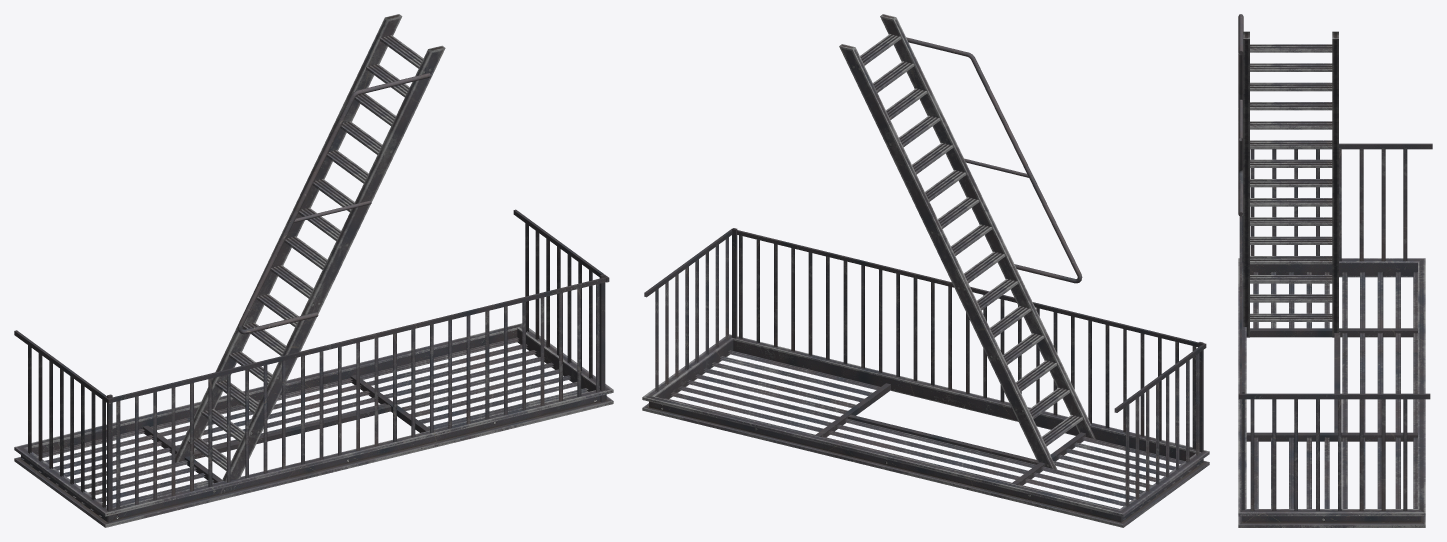
The model's file is House_05_Fire_Escape_03.fbx.
3 views of the same model, side by side, from view 1: azimuth 30°, elevation 25°; view 2: azimuth 150°, elevation 25°; view 3: azimuth 270°, elevation 25° (orthographic). The views are drawn at different scales.
Parts seen in each view (by area): view 1: House_05_Fire_Escape_03_LOD0; view 2: House_05_Fire_Escape_03_LOD0; view 3: House_05_Fire_Escape_03_LOD0.
Part boxes in pixels (bbox=[...]): House_05_Fire_Escape_03_LOD0: bbox=[14, 14, 613, 527]; House_05_Fire_Escape_03_LOD0: bbox=[642, 14, 1209, 527]; House_05_Fire_Escape_03_LOD0: bbox=[1238, 14, 1432, 527].
Size of what is drawn, in the model's own units: 407 by 302 by 131.
